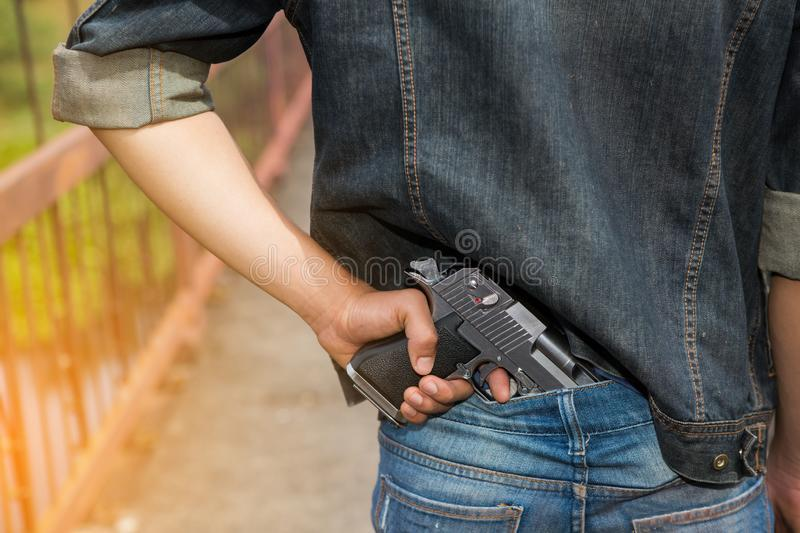weapon: (343, 259, 599, 433)
